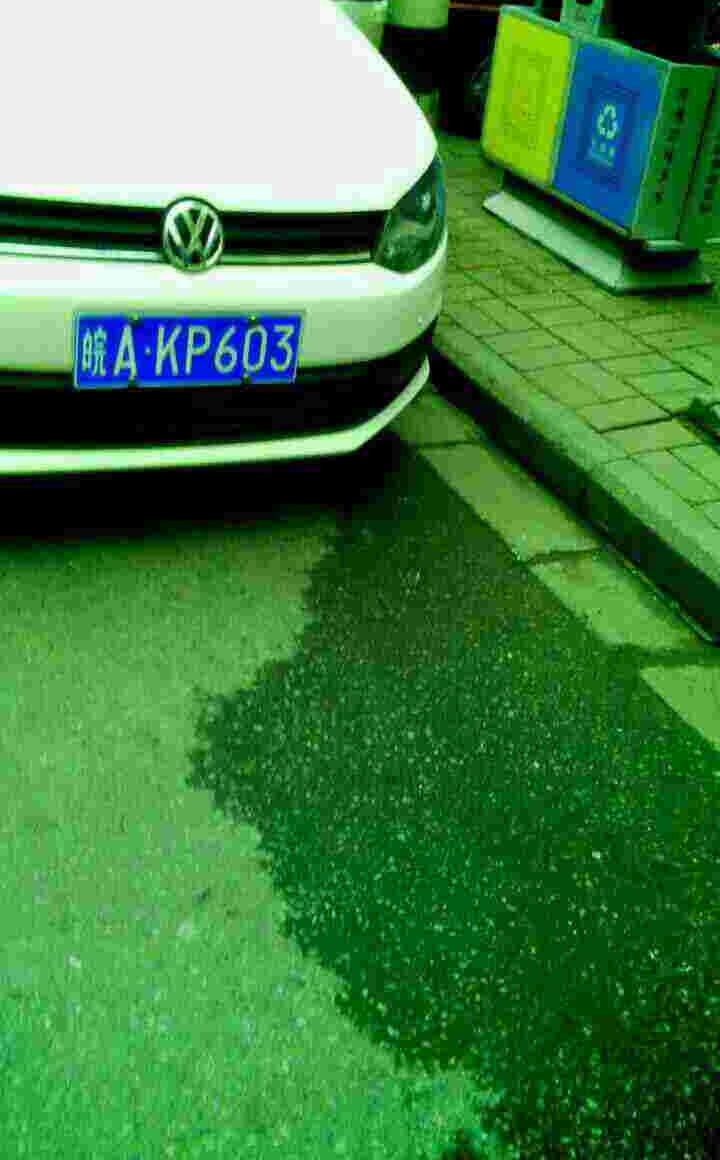plate: (85, 309, 303, 390)
